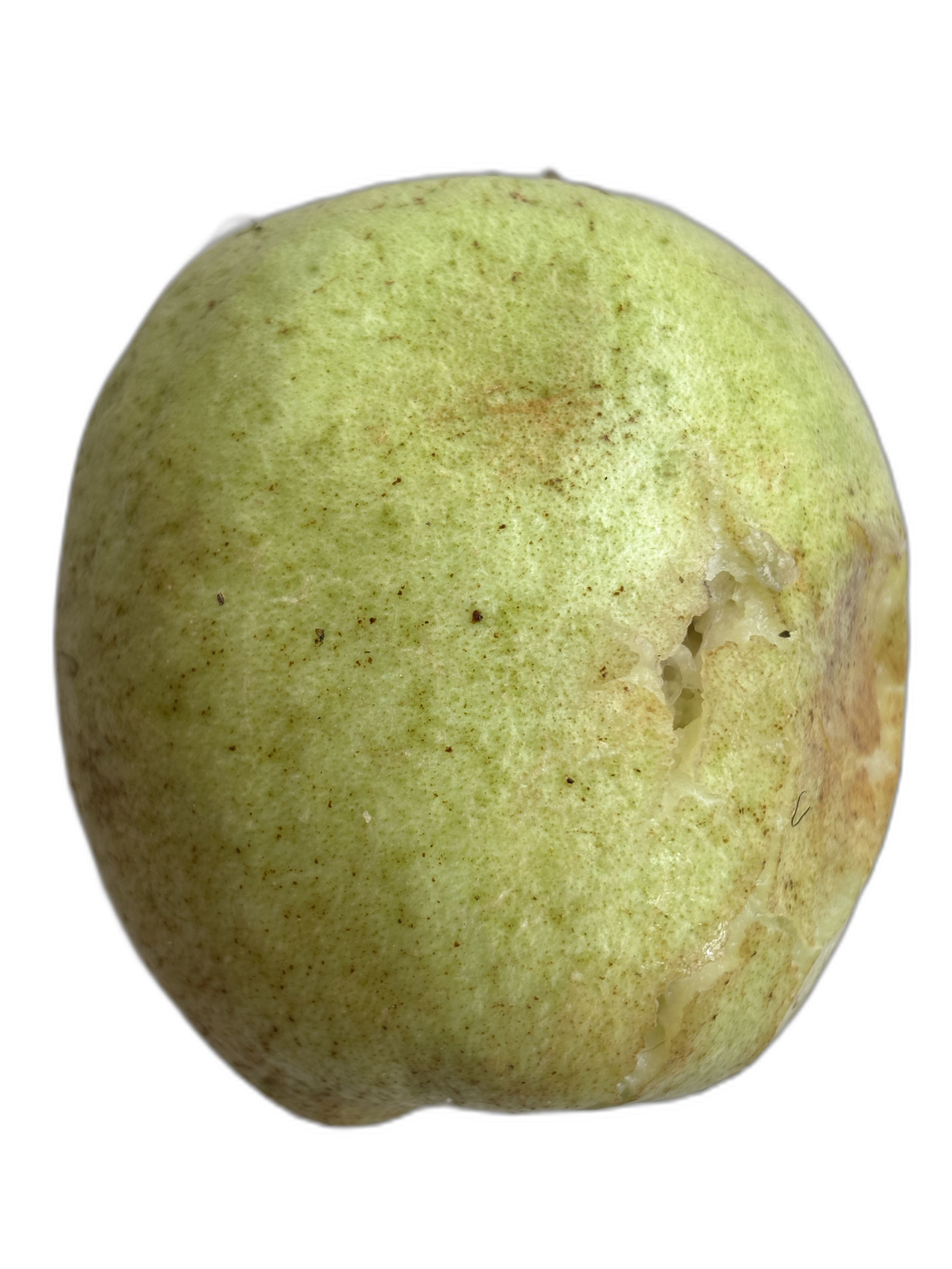guava: (174, 44, 918, 1178)
